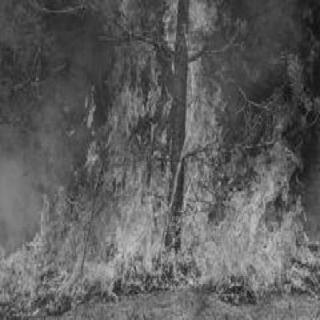Fire: (0, 160, 316, 290)
